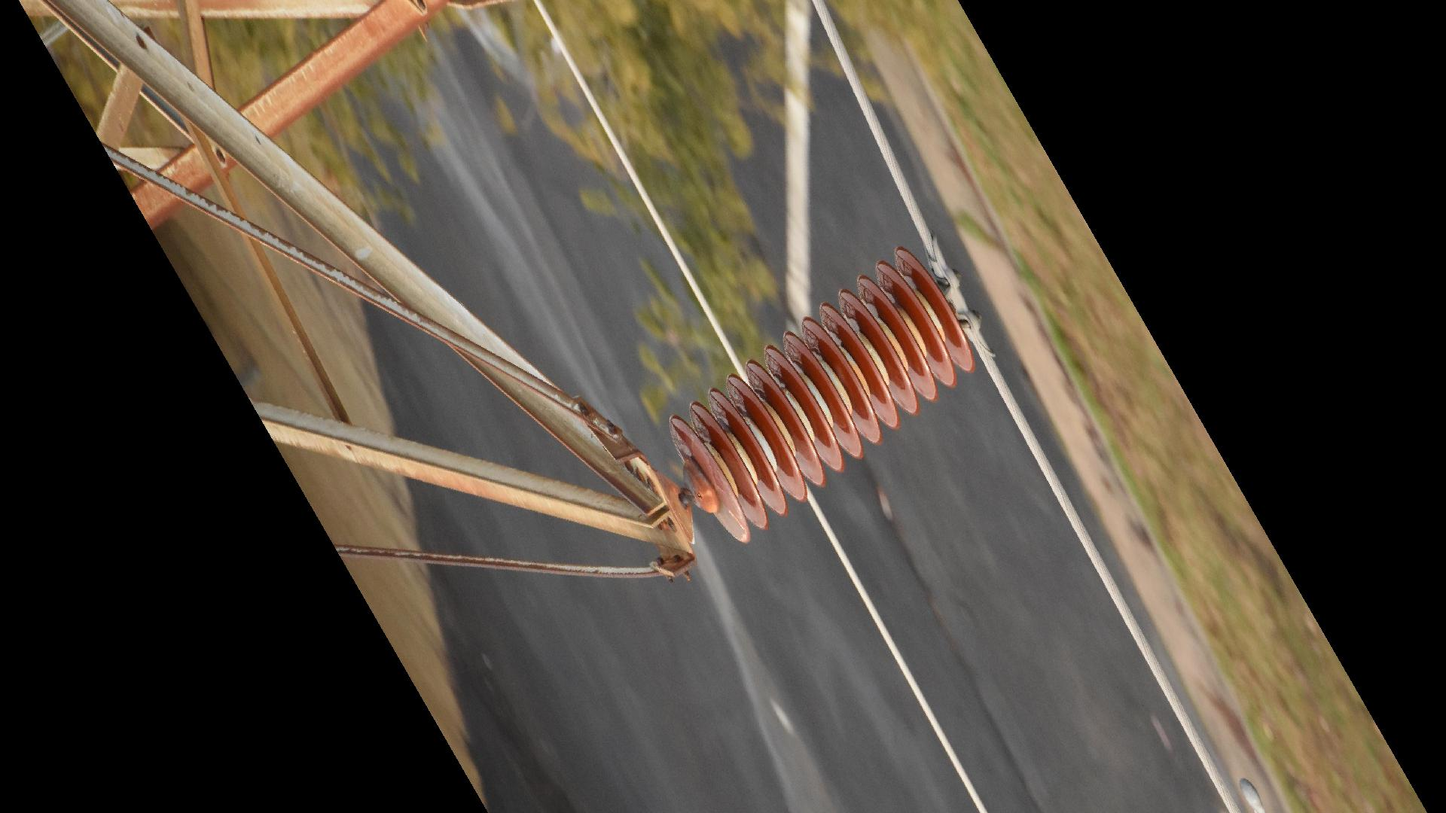insulator: (663, 242, 981, 554)
insulator_flashover: (716, 503, 747, 544)
